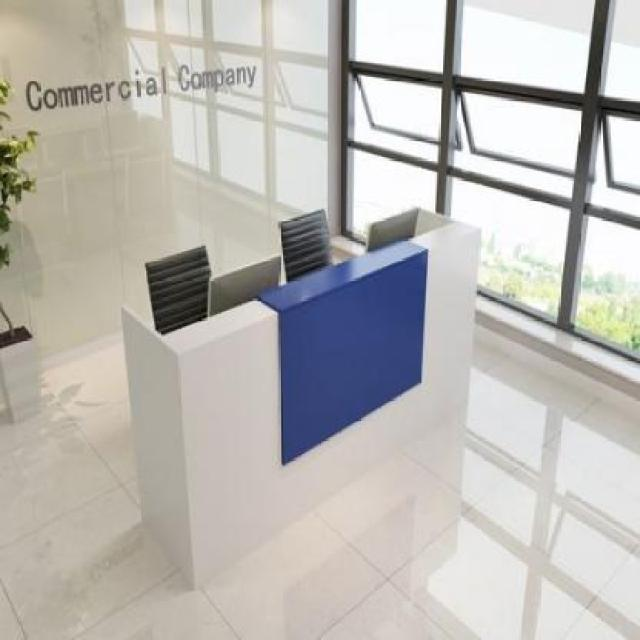frontdesk: (90, 189, 486, 604)
